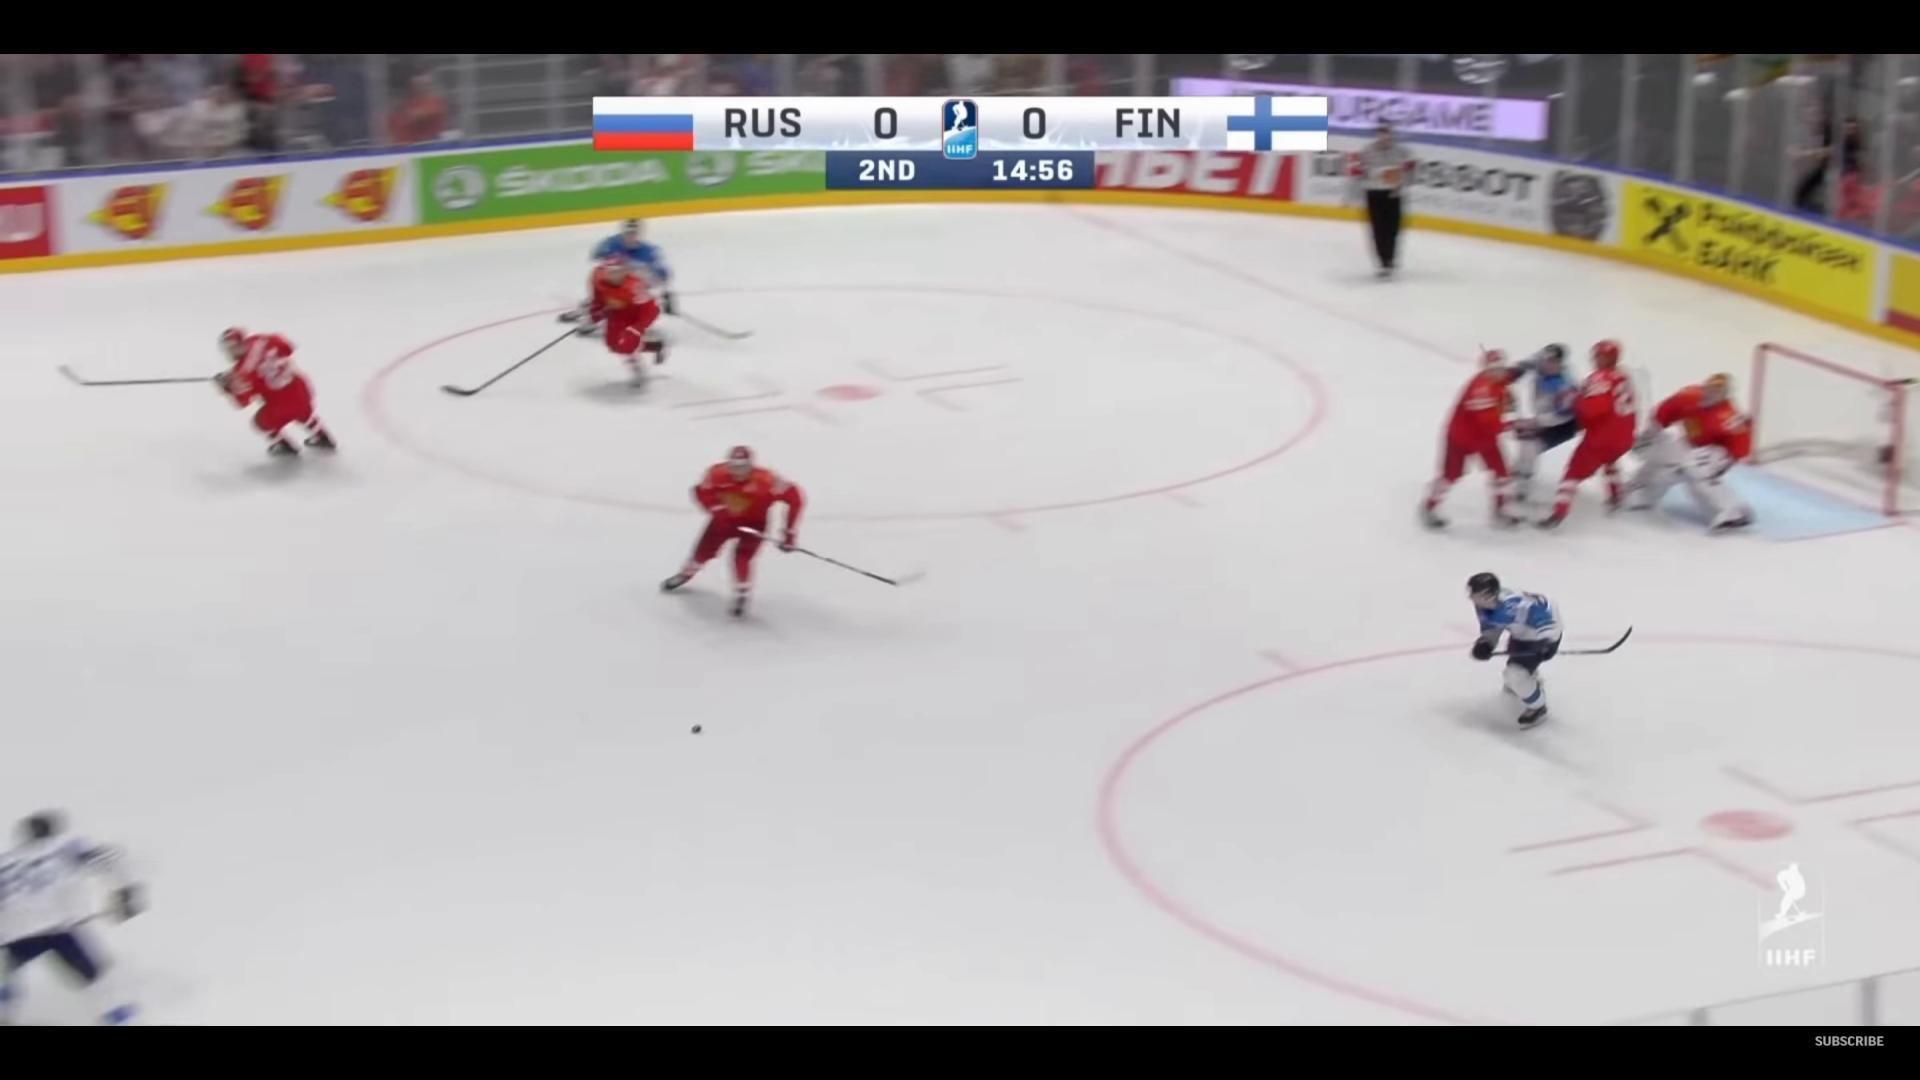puck: (691, 723, 701, 733)
